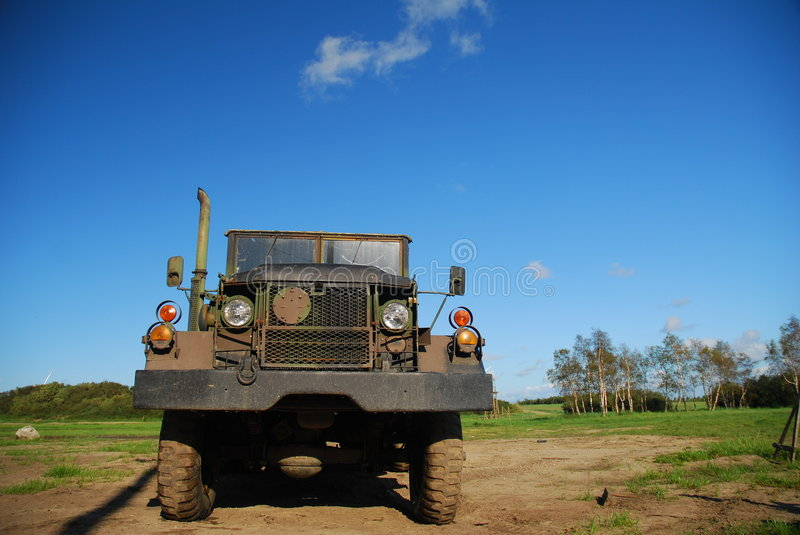camion: (140, 188, 475, 517)
